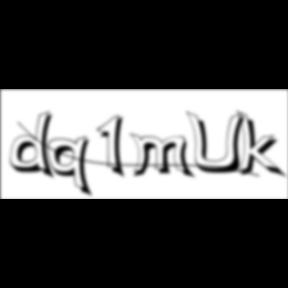1: (96, 114, 132, 182)
U: (186, 110, 252, 176)
d: (10, 110, 60, 182)
k: (236, 108, 288, 181)
m: (129, 132, 197, 181)
q: (48, 135, 97, 200)
